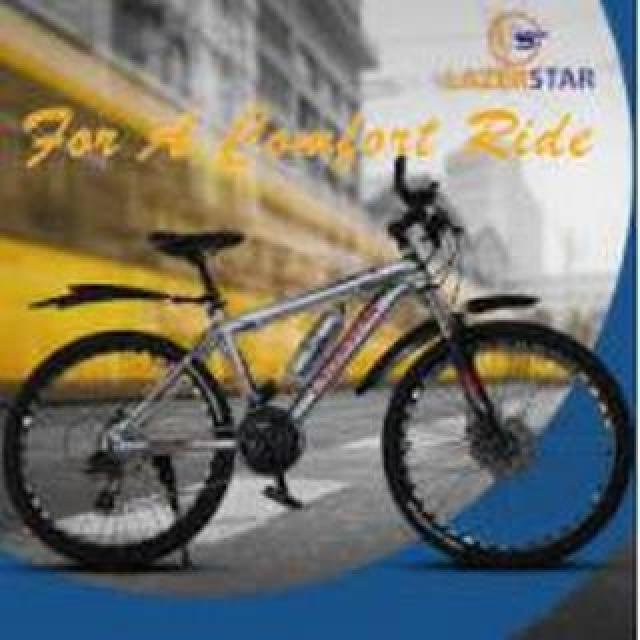Person: (0, 156, 636, 576)
